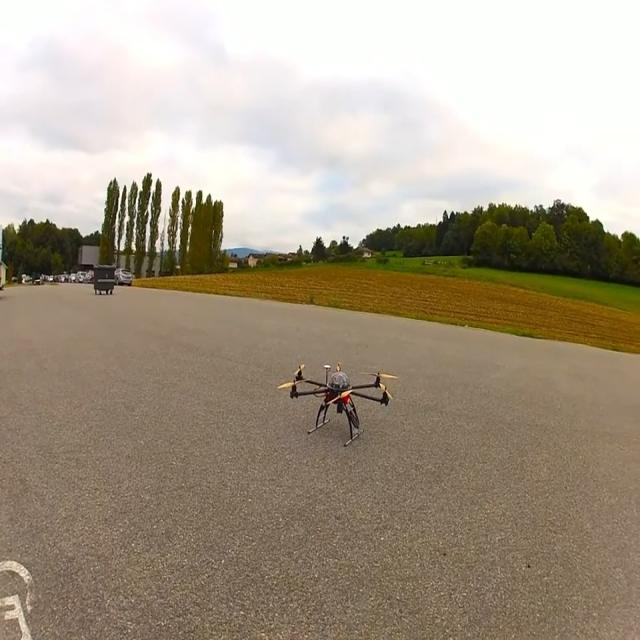drone: (276, 361, 398, 446)
